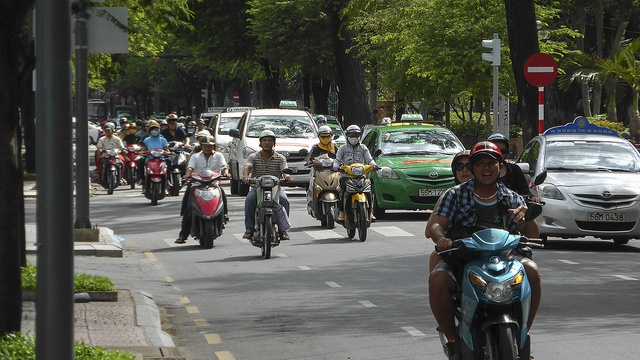non-vehicle: (434, 201, 545, 357), (246, 165, 298, 259), (184, 168, 226, 249), (302, 154, 344, 228), (340, 162, 376, 242), (138, 149, 174, 204), (100, 147, 124, 194), (121, 139, 143, 189)
